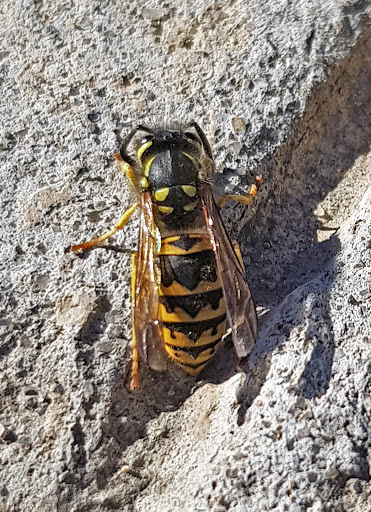chax: (70, 106, 283, 403)
